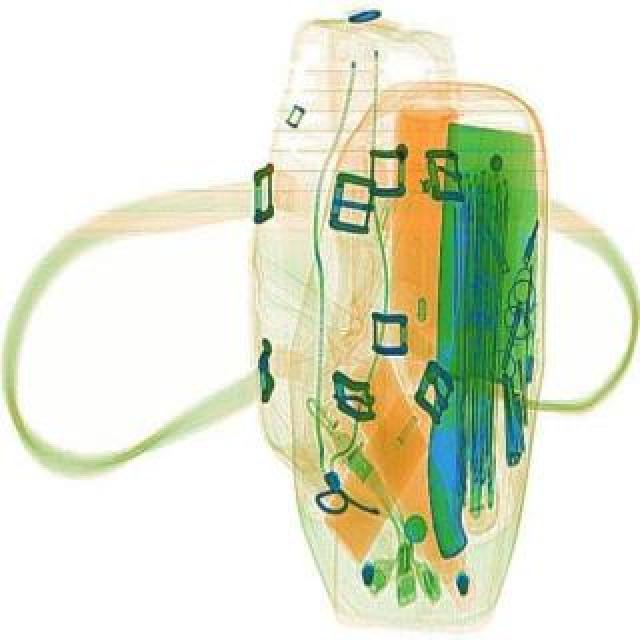knife: (426, 126, 544, 562)
